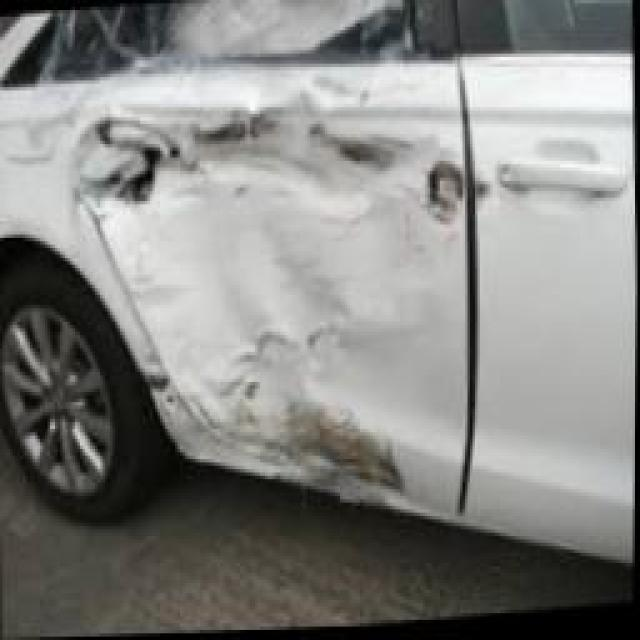replaceable: (68, 20, 478, 535)
